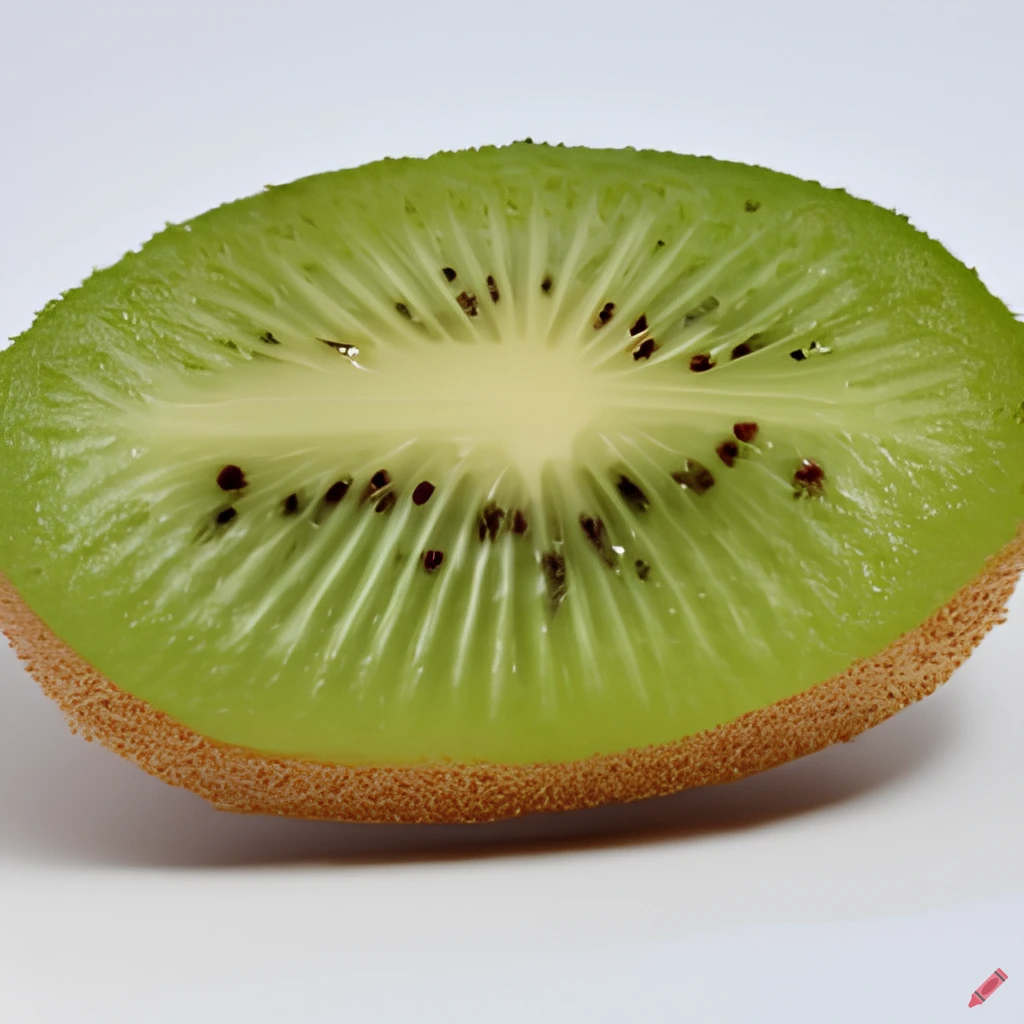Kiwi: (0, 122, 1016, 820)
